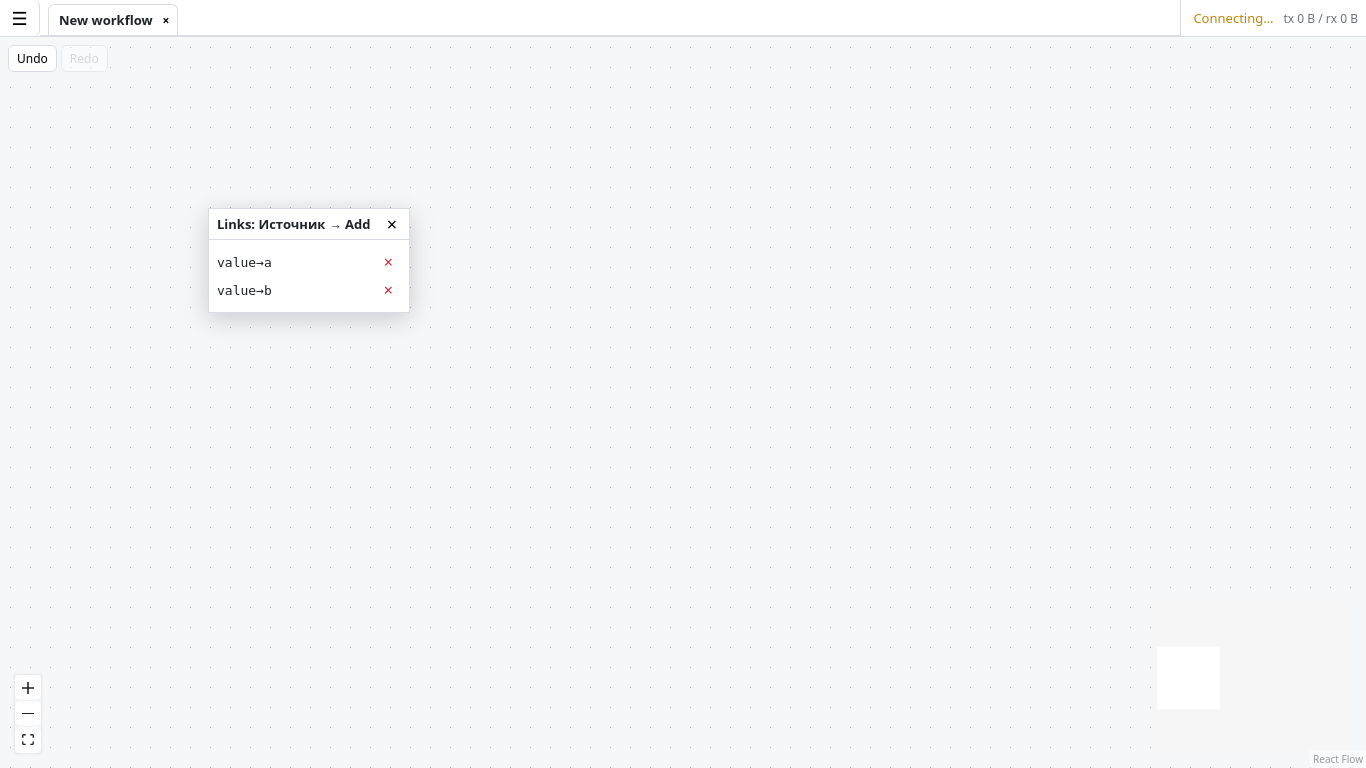
Scenario: окно связей › #5: крестик удаляет только свою связь
The width and height of the screenshot is (1366, 768).
What coordinates should you click on to do the following:
click the button named "Delete link “value→b”"
I would click on:
 (388, 290)
Its box is x1=376 y1=278 x2=401 y2=302.
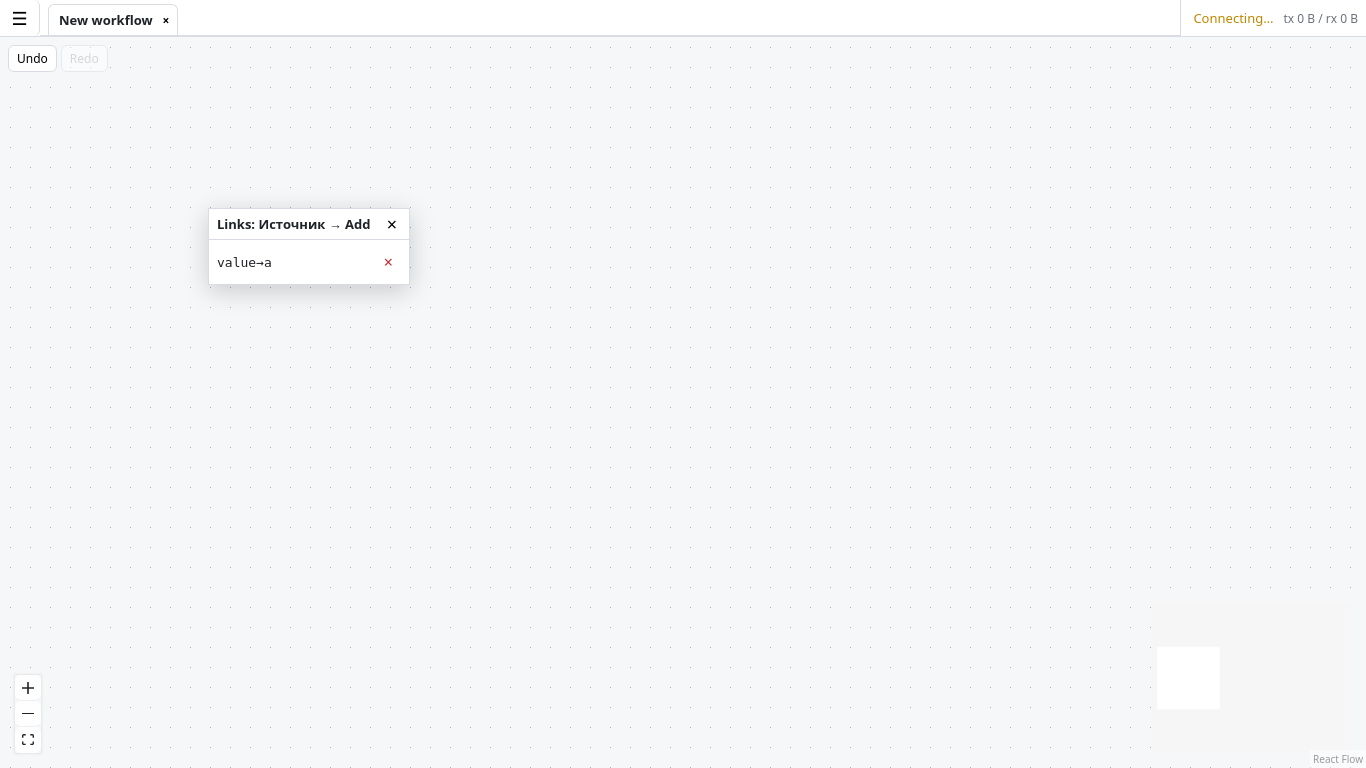
Now the number of list items is 1, box x1=217 y1=248 x2=401 y2=276
